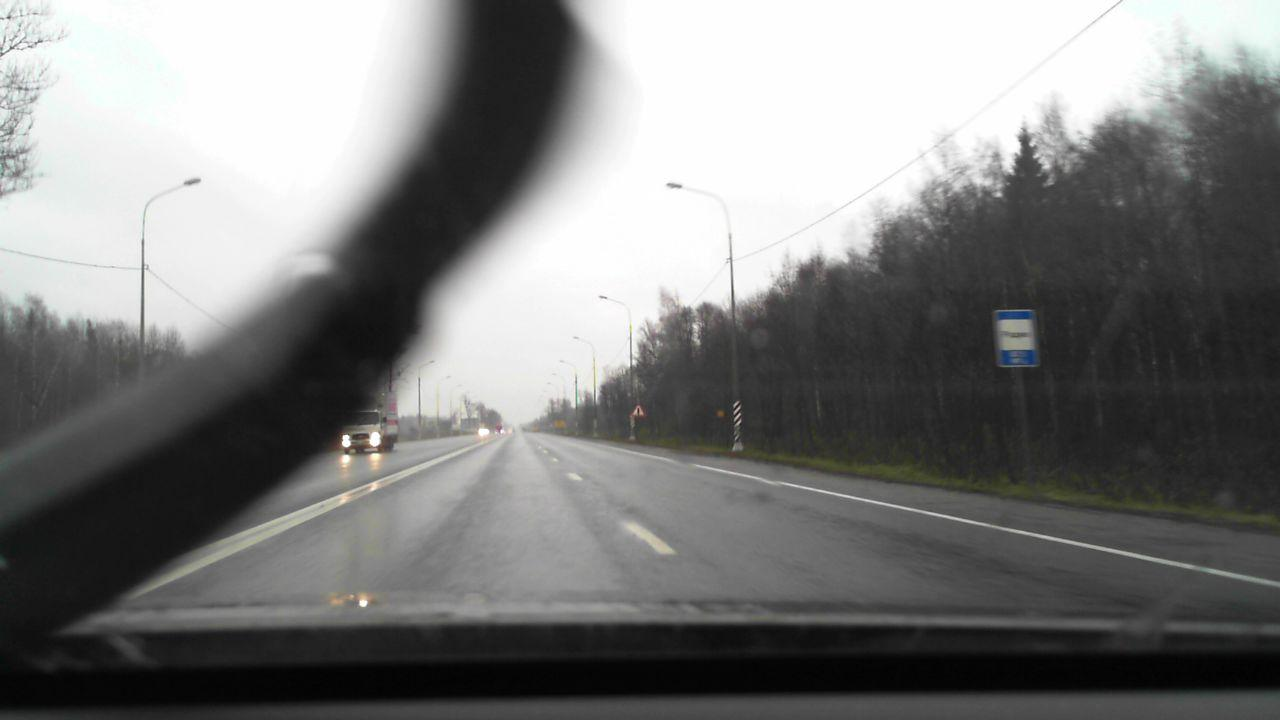7_15: (995, 309, 1039, 366)
